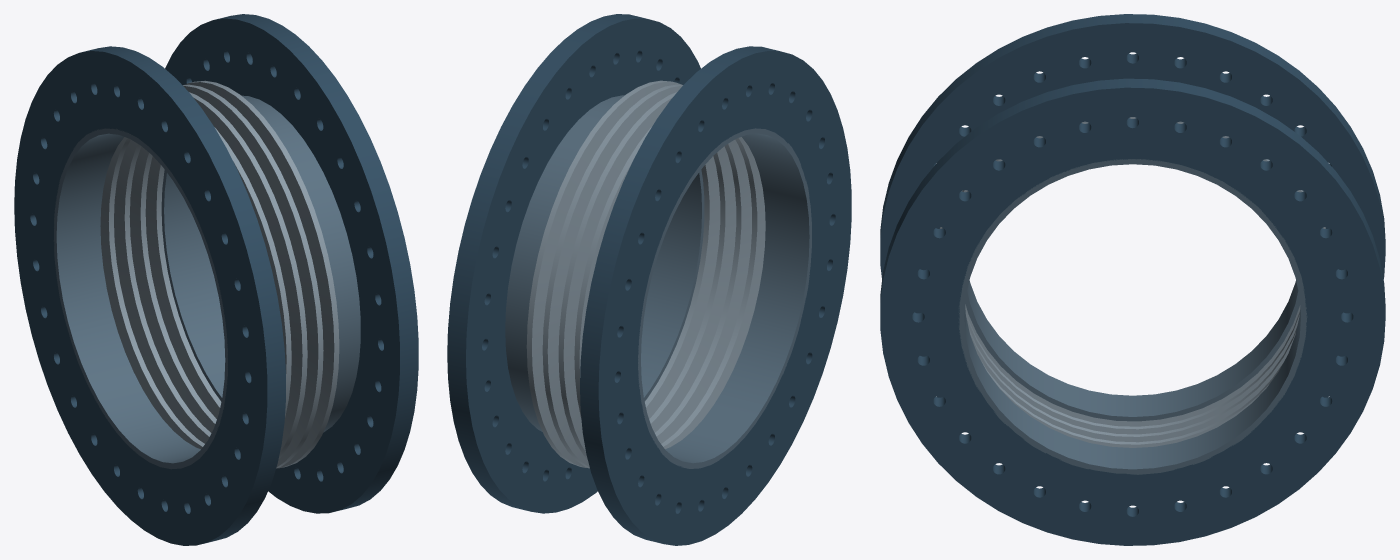
Rendered from flan-dn900-L460-D920-f.glb.
3 renders of one model, left to right at view 1: azimuth 30°, elevation 25°; view 2: azimuth 150°, elevation 25°; view 3: azimuth 270°, elevation 25°, orthographic.
Visible parts, largest first — view 1: homut_flanec_1, homut_flanec_2, prokladka_silfon_1, patrubok_1, patrubok_2; view 2: homut_flanec_1, homut_flanec_2, prokladka_silfon_1, patrubok_1, patrubok_2; view 3: homut_flanec_2, homut_flanec_1, patrubok_2, patrubok_1, prokladka_silfon_1.
Part boxes in pixels (x1,y1,x2,y2): homut_flanec_1: (14,46,285,545); homut_flanec_2: (165,14,418,513); prokladka_silfon_1: (100,80,339,468); patrubok_1: (53,128,227,469); patrubok_2: (161,95,360,432); homut_flanec_1: (580,46,851,545); homut_flanec_2: (447,14,700,513); prokladka_silfon_1: (526,80,765,468); patrubok_1: (638,128,811,468); patrubok_2: (505,95,704,431); homut_flanec_2: (880,78,1385,545); homut_flanec_1: (880,14,1385,397); patrubok_2: (958,159,1307,474); patrubok_1: (965,281,1300,421); prokladka_silfon_1: (939,117,1325,447).
Size of the model in its own units: 460 by 1334 by 1333.
